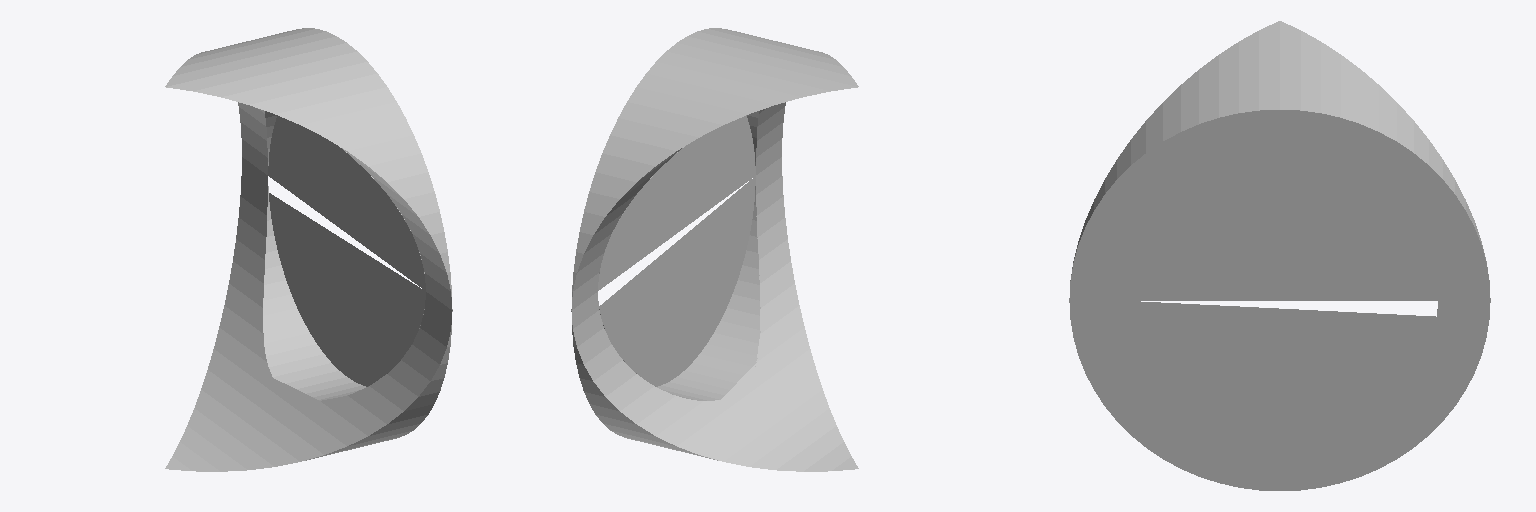
File: tube_side_adapter.obj
3 renders of one model, left to right at view 1: azimuth 30°, elevation 25°; view 2: azimuth 150°, elevation 25°; view 3: azimuth 270°, elevation 25°, orthographic.
Parts seen in each view (by area): view 1: Cylinder.001_Cylinder.023; view 2: Cylinder.001_Cylinder.023; view 3: Cylinder.001_Cylinder.023.
Part boxes in pixels (left/top/right/bottom): Cylinder.001_Cylinder.023: left=165, top=28, right=452, bottom=471; Cylinder.001_Cylinder.023: left=571, top=28, right=858, bottom=471; Cylinder.001_Cylinder.023: left=1069, top=21, right=1490, bottom=490.
Bounding box in the file's own units: 1 × 2 × 2.